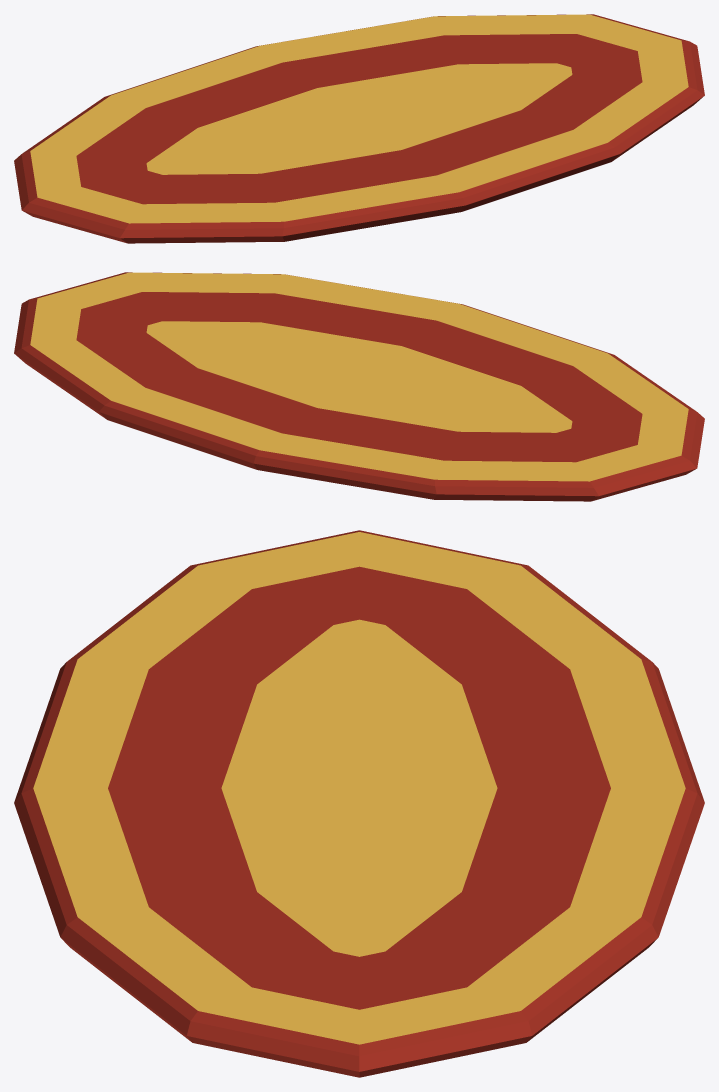
The model's file is Carpet A.glb.
3 views of the same model, one above another, from view 1: azimuth 30°, elevation 25°; view 2: azimuth 150°, elevation 25°; view 3: azimuth 270°, elevation 25° (orthographic). The views are drawn at different scales.
Parts seen in each view (by area): view 1: Carpet A; view 2: Carpet A; view 3: Carpet A.
Part boxes in pixels (x1,y1,x2,y2): Carpet A: (14, 14, 704, 243); Carpet A: (14, 272, 704, 501); Carpet A: (14, 530, 704, 1077).
Size of the model in its own units: 2.35 by 0.0599 by 1.27.
